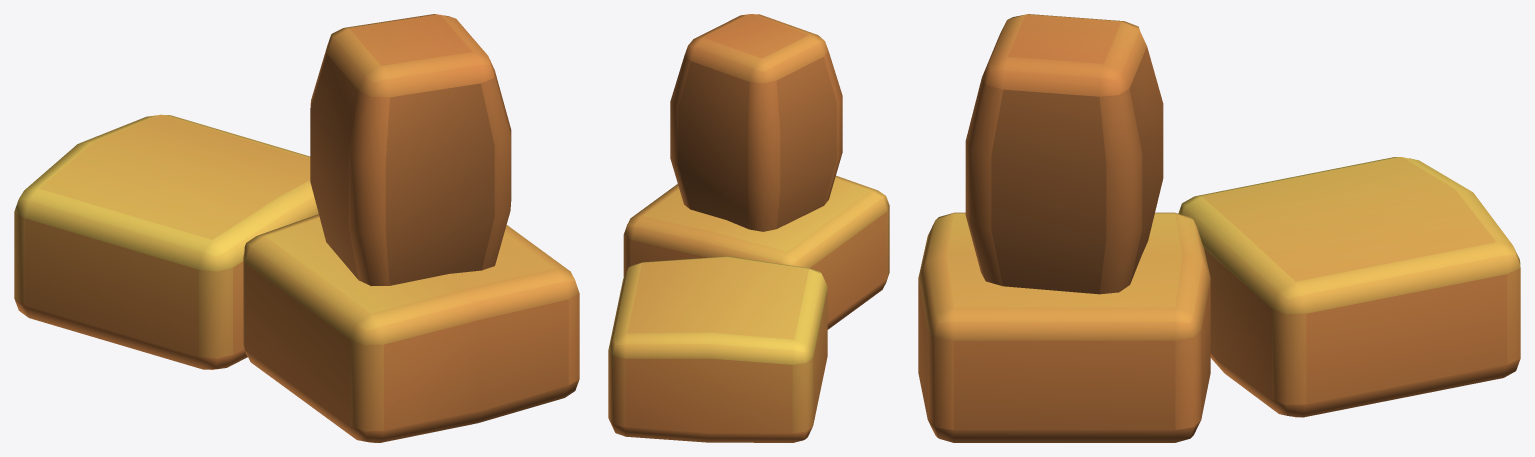
The model's file is rail5_stone.fbx.
3 renders of one model, left to right at view 1: azimuth 30°, elevation 25°; view 2: azimuth 150°, elevation 25°; view 3: azimuth 270°, elevation 25°, orthographic. The views are drawn at different scales.
Parts seen in each view (by area): view 1: rail5_stone; view 2: rail5_stone; view 3: rail5_stone.
Boxes of the visible parts, x1,y1,x2,y2 form: rail5_stone: (14,14,579,442); rail5_stone: (608,14,889,442); rail5_stone: (918,14,1520,442).
Size of the model in its own units: 83.52 by 80.38 by 122.
